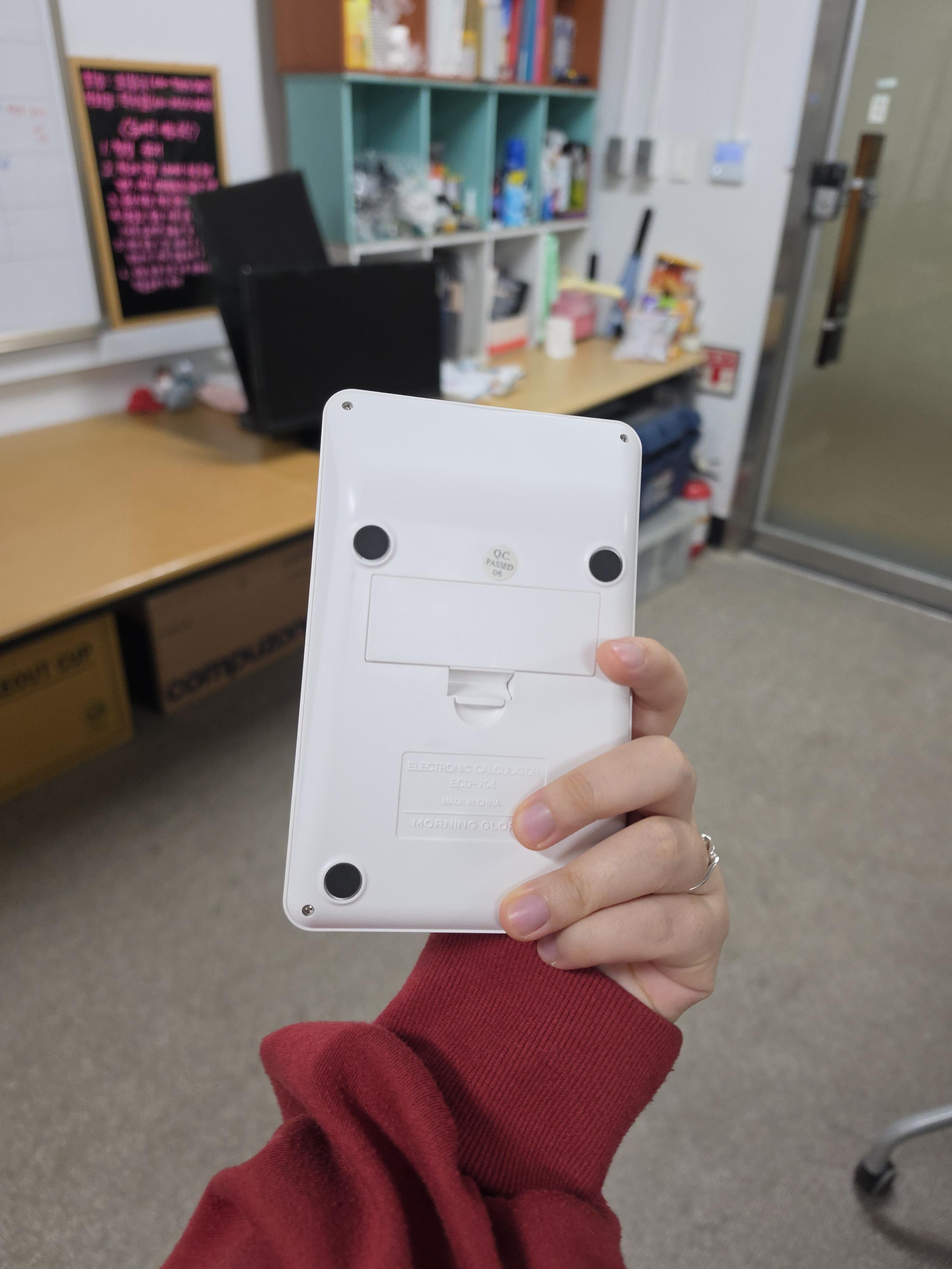calculator: (283, 389, 643, 934)
